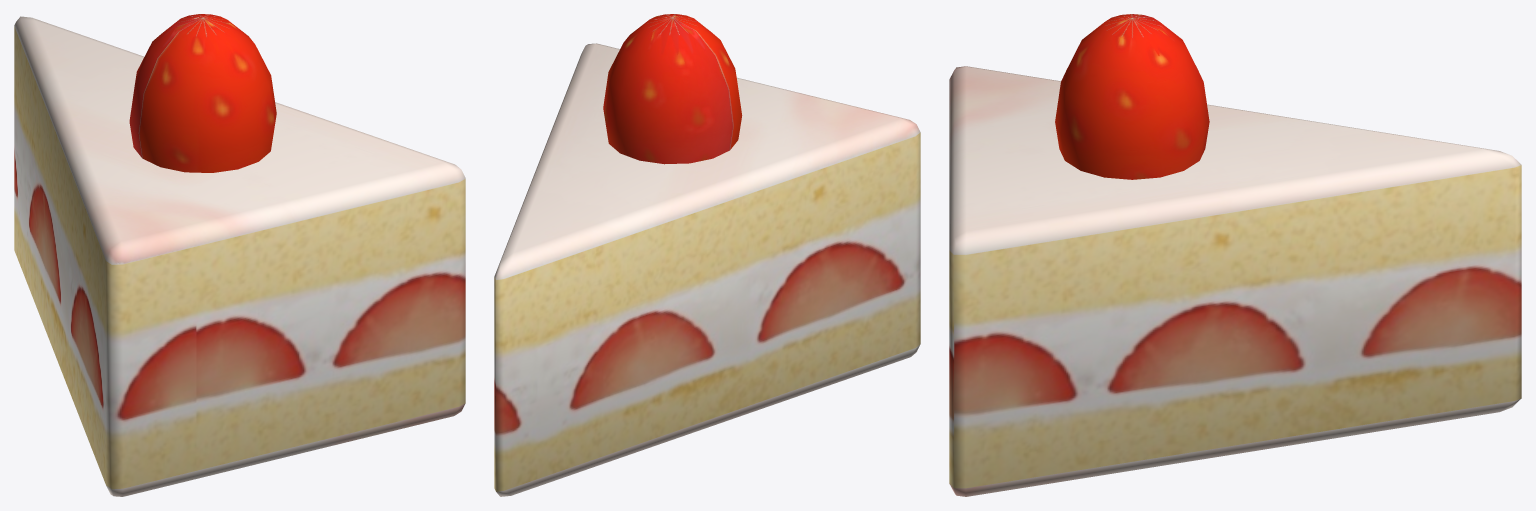
File: cake_col.fbx
3 renders of one model, left to right at view 1: azimuth 30°, elevation 25°; view 2: azimuth 150°, elevation 25°; view 3: azimuth 270°, elevation 25°, orthographic. The views are drawn at different scales.
Parts seen in each view (by area): view 1: cake; view 2: cake; view 3: cake.
Boxes of the visible parts, bbox=[...] form: cake: bbox=[14, 14, 465, 496]; cake: bbox=[494, 14, 920, 496]; cake: bbox=[949, 14, 1521, 496].
Size of the model in its own units: 168 by 173 by 226.
